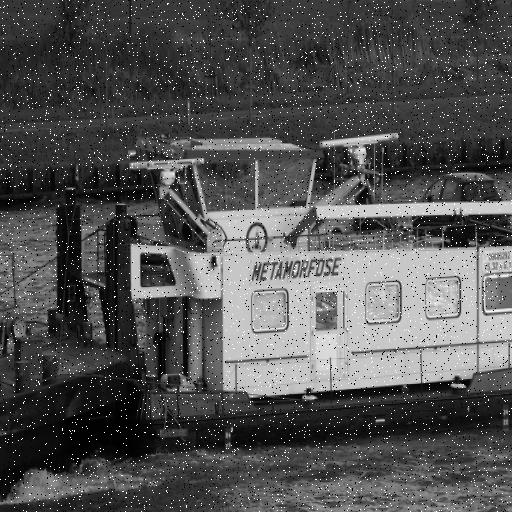tugboat: (48, 110, 512, 466)
